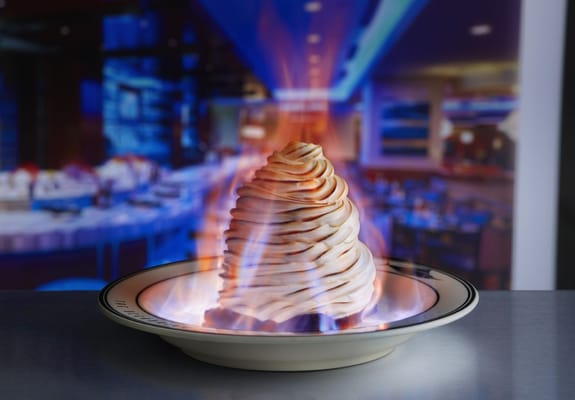pizza: (195, 93, 379, 333)
